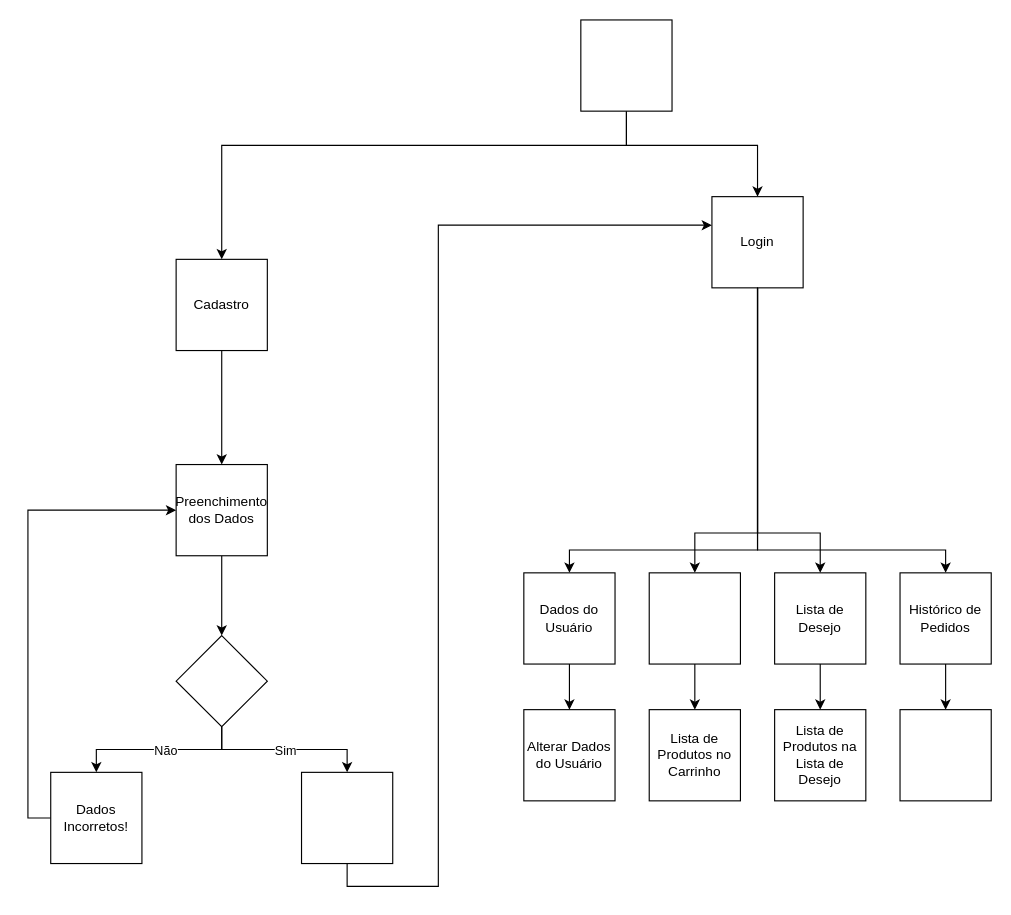
The diagram is 1011 pixels wide and 915 high, and some of its shapes have lost their labels. The shapes that lost their labels are listed below. From the top down, each one's box as (x1, y1, x2, y2) in pixels, then its label:
(580, 19, 672, 111): Home
(648, 572, 740, 664): Carrinho
(175, 634, 267, 727): Se Dados Completos
(899, 709, 991, 801): Cancelar Compra
(300, 771, 393, 864): Cadastro Bem Sucedido!
